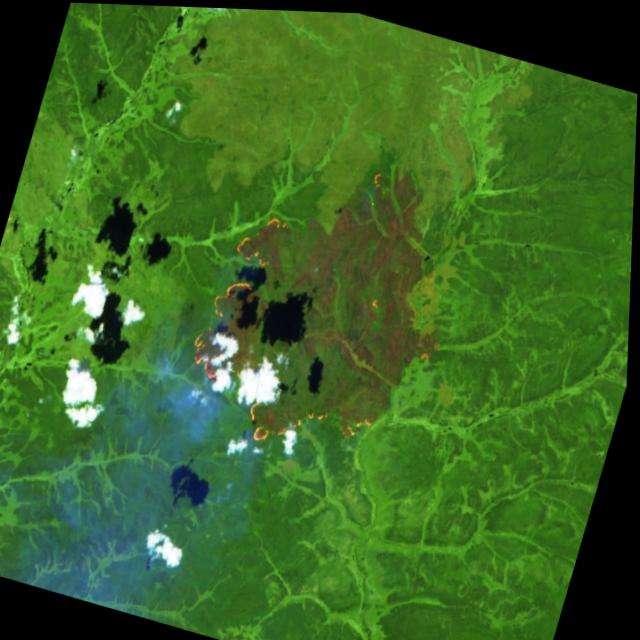fire: (181, 191, 302, 404), (236, 372, 392, 489), (416, 321, 448, 368), (365, 158, 390, 196)
